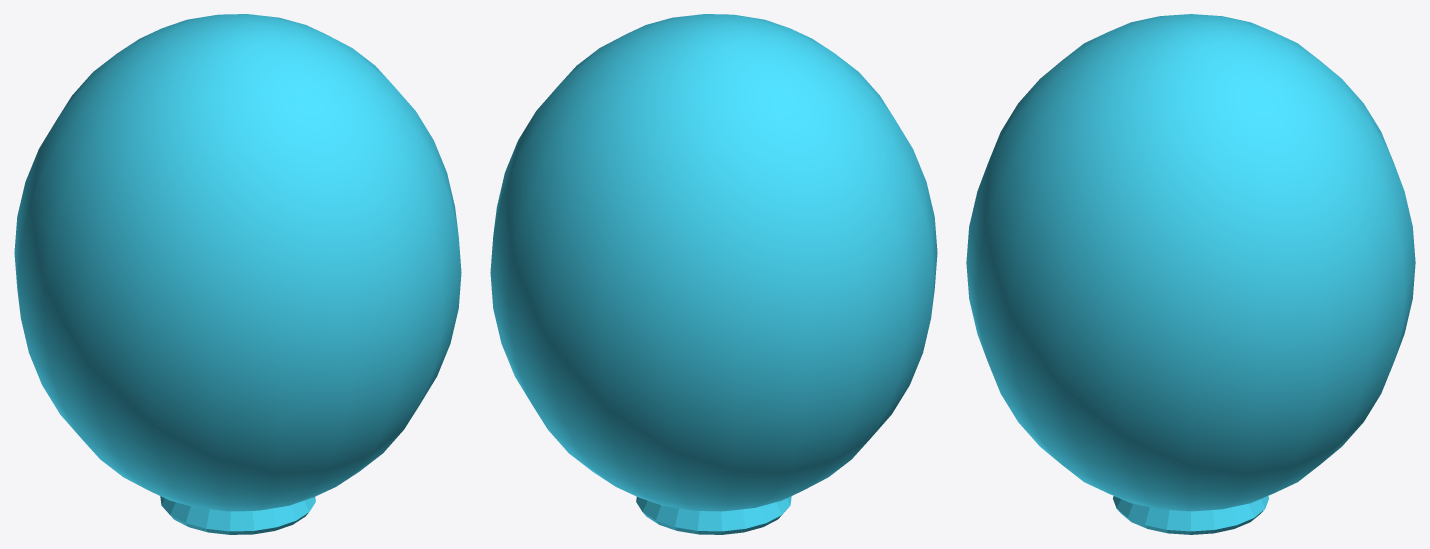
File: blueBalloon.fbx
3 views of the same model, side by side, from view 1: azimuth 30°, elevation 25°; view 2: azimuth 150°, elevation 25°; view 3: azimuth 270°, elevation 25° (orthographic).
Visible parts, largest first — view 1: pSphere1; view 2: pSphere1; view 3: pSphere1.
Boxes of the visible parts, x1=… form: pSphere1: x1=14, y1=14, x2=461, y2=534; pSphere1: x1=490, y1=14, x2=937, y2=534; pSphere1: x1=966, y1=14, x2=1415, y2=534.
Size of the model in its own units: 3 by 3.56 by 3.
Materials: 1 (1 with a texture image).
